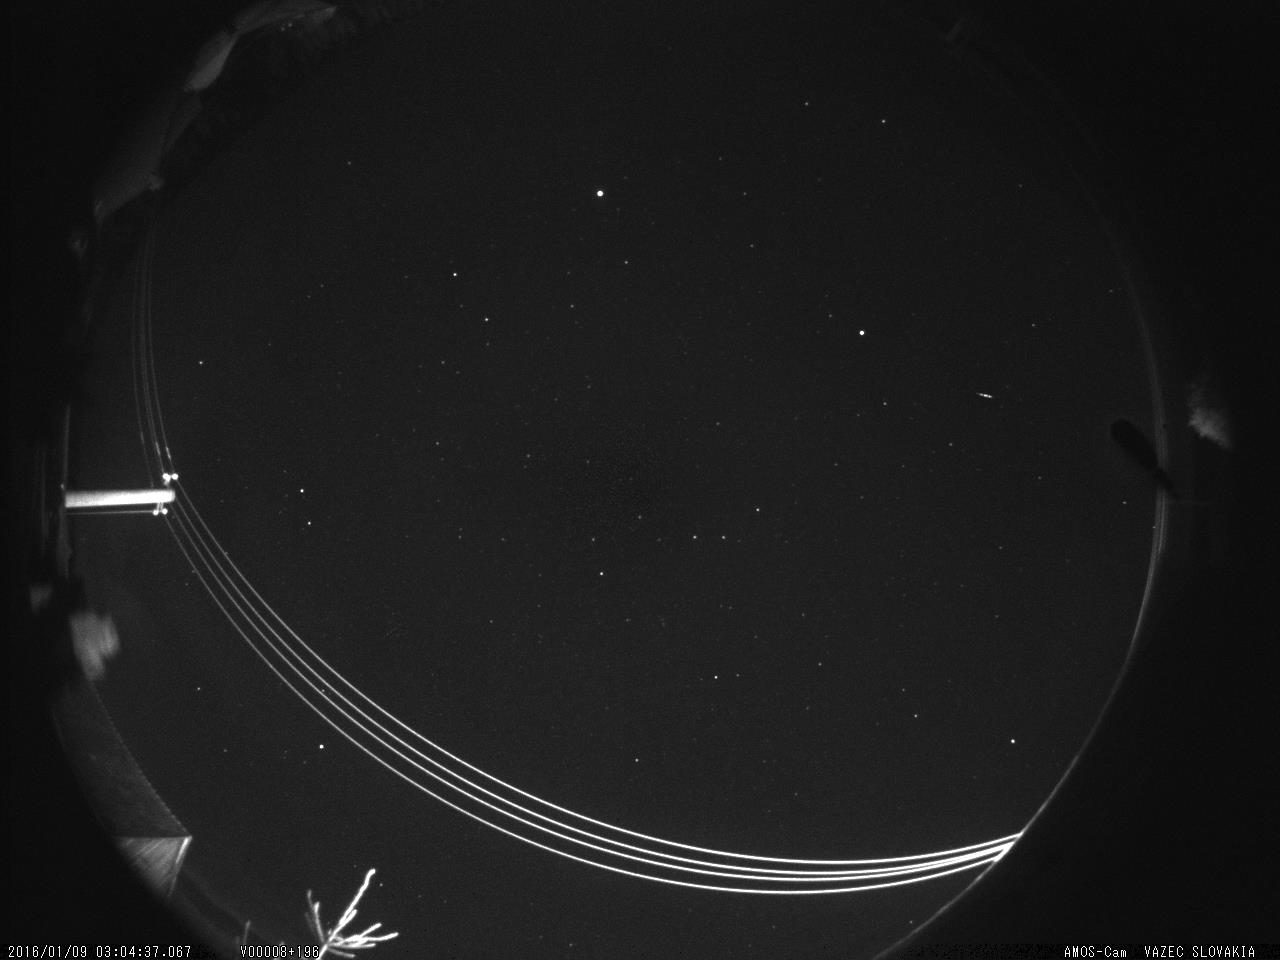meteor: (979, 383, 999, 413)
